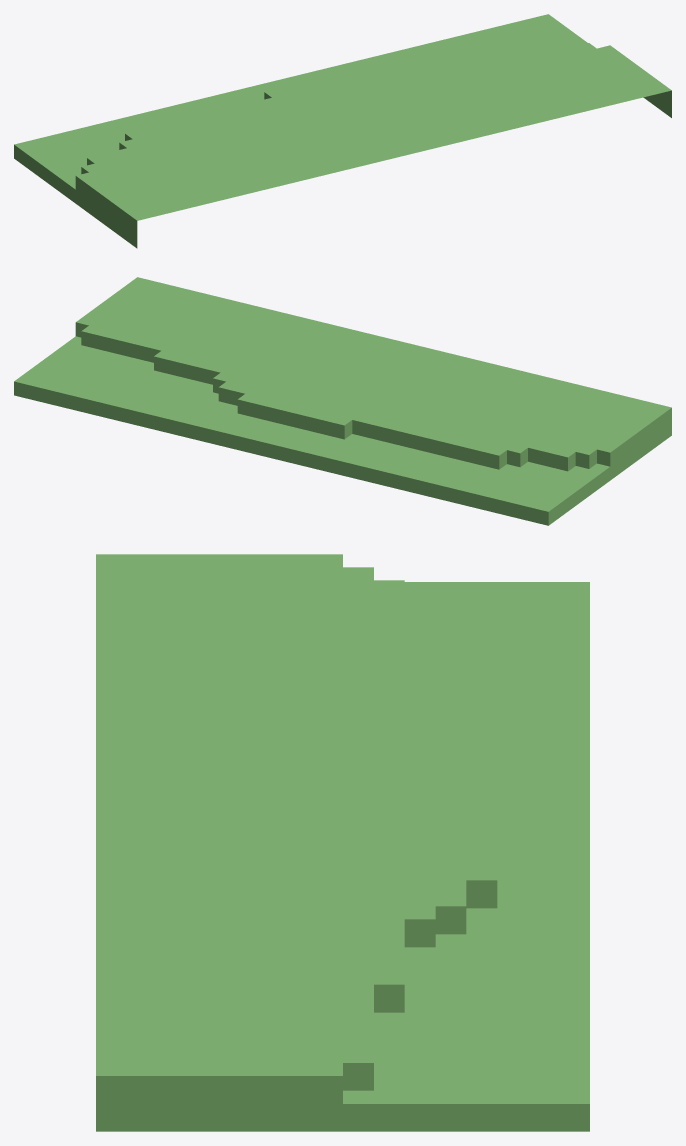
Rendered from Straight5-1step-3.fbx.
3 views of the same model, one above another, from view 1: azimuth 30°, elevation 25°; view 2: azimuth 150°, elevation 25°; view 3: azimuth 270°, elevation 25° (orthographic). The views are drawn at different scales.
Visible parts, largest first — view 1: Straight5-1step-3; view 2: Straight5-1step-3; view 3: Straight5-1step-3.
Boxes of the visible parts, box(x1,y1,x2,y2) form: Straight5-1step-3: box(14, 14, 671, 248); Straight5-1step-3: box(14, 277, 671, 525); Straight5-1step-3: box(96, 554, 589, 1131).
Bounding box in the file's own units: 40 × 2 × 16.
Materials: 1 (1 with a texture image).
